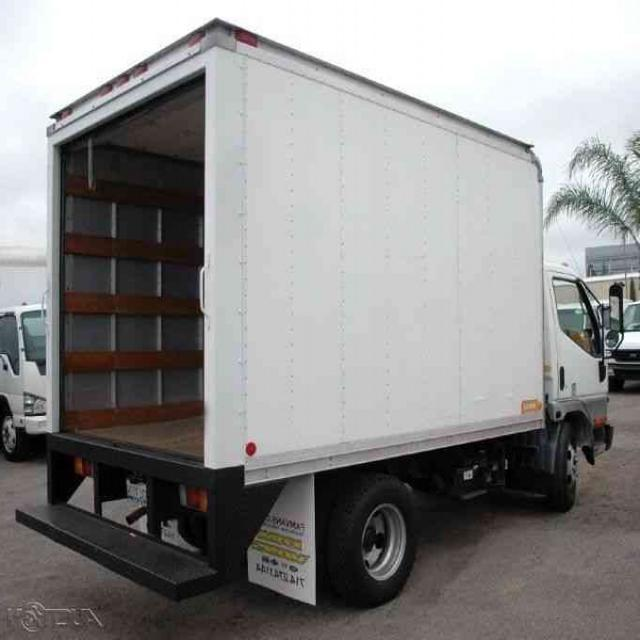truck: (17, 16, 625, 607)
